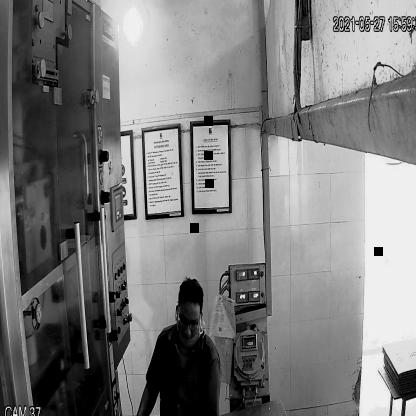goggles: (175, 311, 206, 334)
